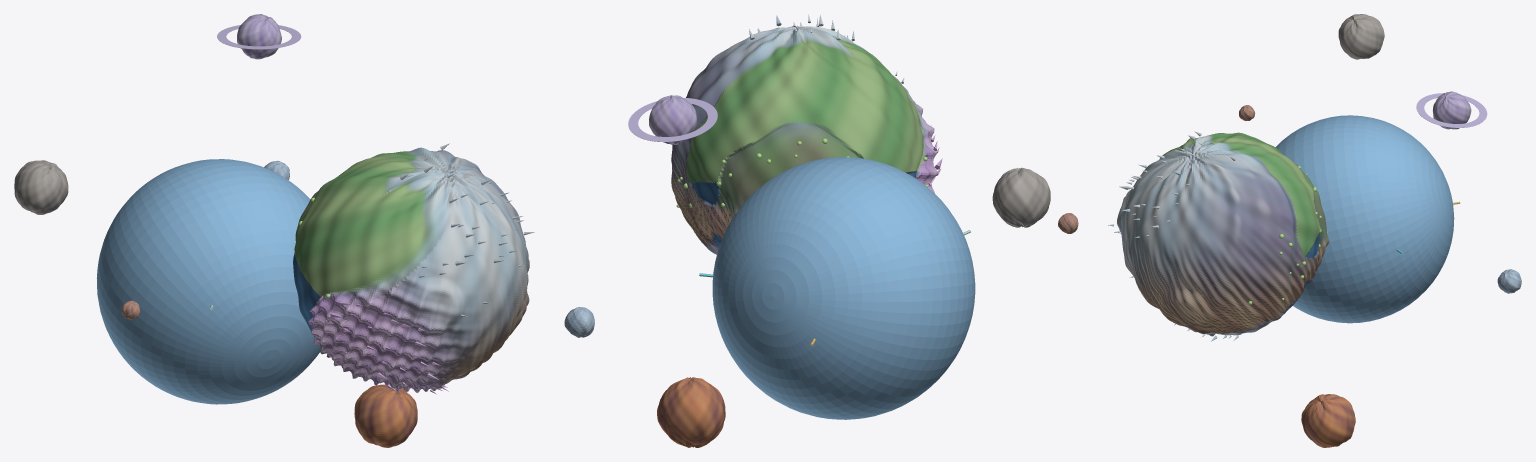
The model's file is genesis-planeta-multibiomas.glb.
The picture shows the model from 3 angles, left to right: view 1: azimuth 30°, elevation 25°; view 2: azimuth 150°, elevation 25°; view 3: azimuth 270°, elevation 25°; orthographic projection. The views are drawn at different scales.
Parts seen in each view (by area): view 1: GenesisWorld_MainPlanet, GenesisWorld_Atmosphere, GenesisMoon_Lava, GenesisMoon_Rocky, GenesisMoon_Ringed, GenesisWorld_IceSpikes, GenesisMoon_Ringed_Ring, GenesisWorld_CrystalSpires; view 2: GenesisWorld_Atmosphere, GenesisWorld_MainPlanet, GenesisMoon_Lava, GenesisMoon_Rocky, GenesisMoon_Ringed, GenesisMoon_Ringed_Ring, GenesisMoon_Blue; view 3: GenesisWorld_MainPlanet, GenesisWorld_Atmosphere, GenesisMoon_Lava, GenesisMoon_Rocky, GenesisMoon_Ringed, GenesisMoon_Ringed_Ring, GenesisWorld_IceSpikes, GenesisMoon_Blue.
Boxes of the visible parts, bbox=[...] form: GenesisWorld_MainPlanet: bbox=[293, 147, 529, 392]; GenesisWorld_Atmosphere: bbox=[96, 159, 320, 404]; GenesisMoon_Lava: bbox=[354, 384, 417, 447]; GenesisMoon_Rocky: bbox=[14, 160, 68, 214]; GenesisMoon_Ringed: bbox=[237, 14, 281, 59]; GenesisWorld_IceSpikes: bbox=[400, 143, 534, 316]; GenesisMoon_Ringed_Ring: bbox=[217, 25, 301, 49]; GenesisWorld_CrystalSpires: bbox=[326, 301, 448, 394]; GenesisWorld_Atmosphere: bbox=[712, 157, 975, 419]; GenesisWorld_MainPlanet: bbox=[671, 26, 937, 254]; GenesisMoon_Lava: bbox=[657, 377, 725, 447]; GenesisMoon_Rocky: bbox=[992, 167, 1050, 227]; GenesisMoon_Ringed: bbox=[649, 95, 696, 144]; GenesisMoon_Ringed_Ring: bbox=[628, 98, 717, 141]; GenesisMoon_Blue: bbox=[564, 307, 594, 337]; GenesisWorld_MainPlanet: bbox=[1117, 132, 1329, 336]; GenesisWorld_Atmosphere: bbox=[1276, 115, 1454, 323]; GenesisMoon_Lava: bbox=[1301, 394, 1355, 447]; GenesisMoon_Rocky: bbox=[1338, 14, 1384, 59]; GenesisMoon_Ringed: bbox=[1432, 91, 1471, 129]; GenesisMoon_Ringed_Ring: bbox=[1416, 93, 1487, 127]; GenesisWorld_IceSpikes: bbox=[1108, 131, 1238, 341]; GenesisMoon_Blue: bbox=[1497, 269, 1521, 293].
Bounding box in the file's own units: 4.1 × 3.68 × 4.19.
